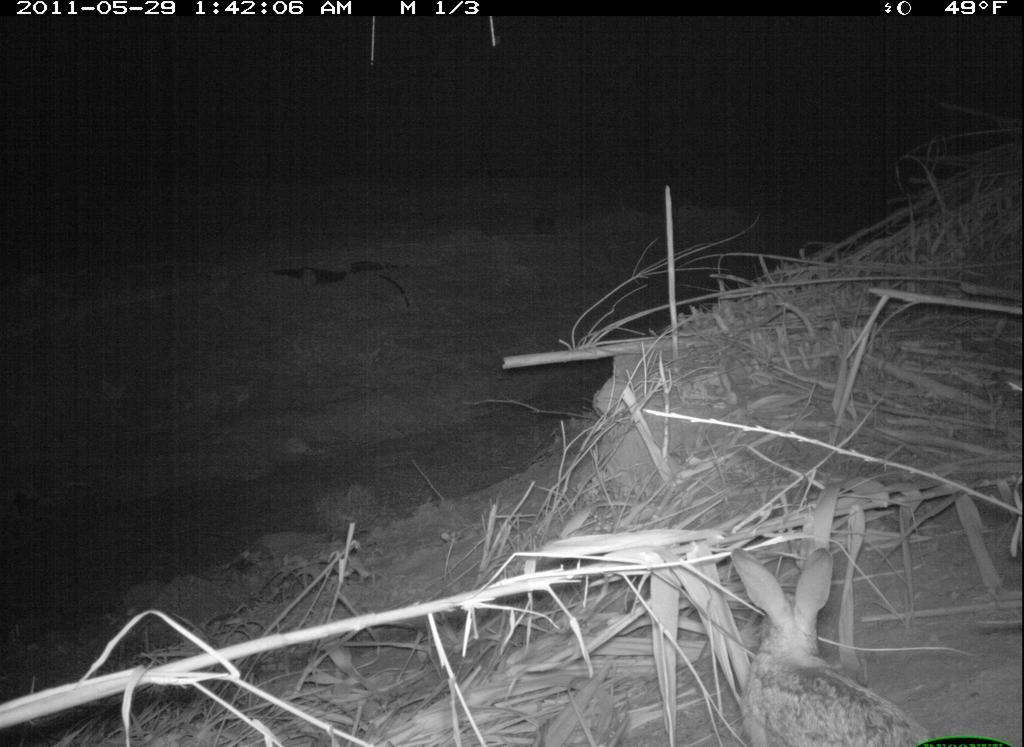rabbit: (722, 538, 929, 747)
